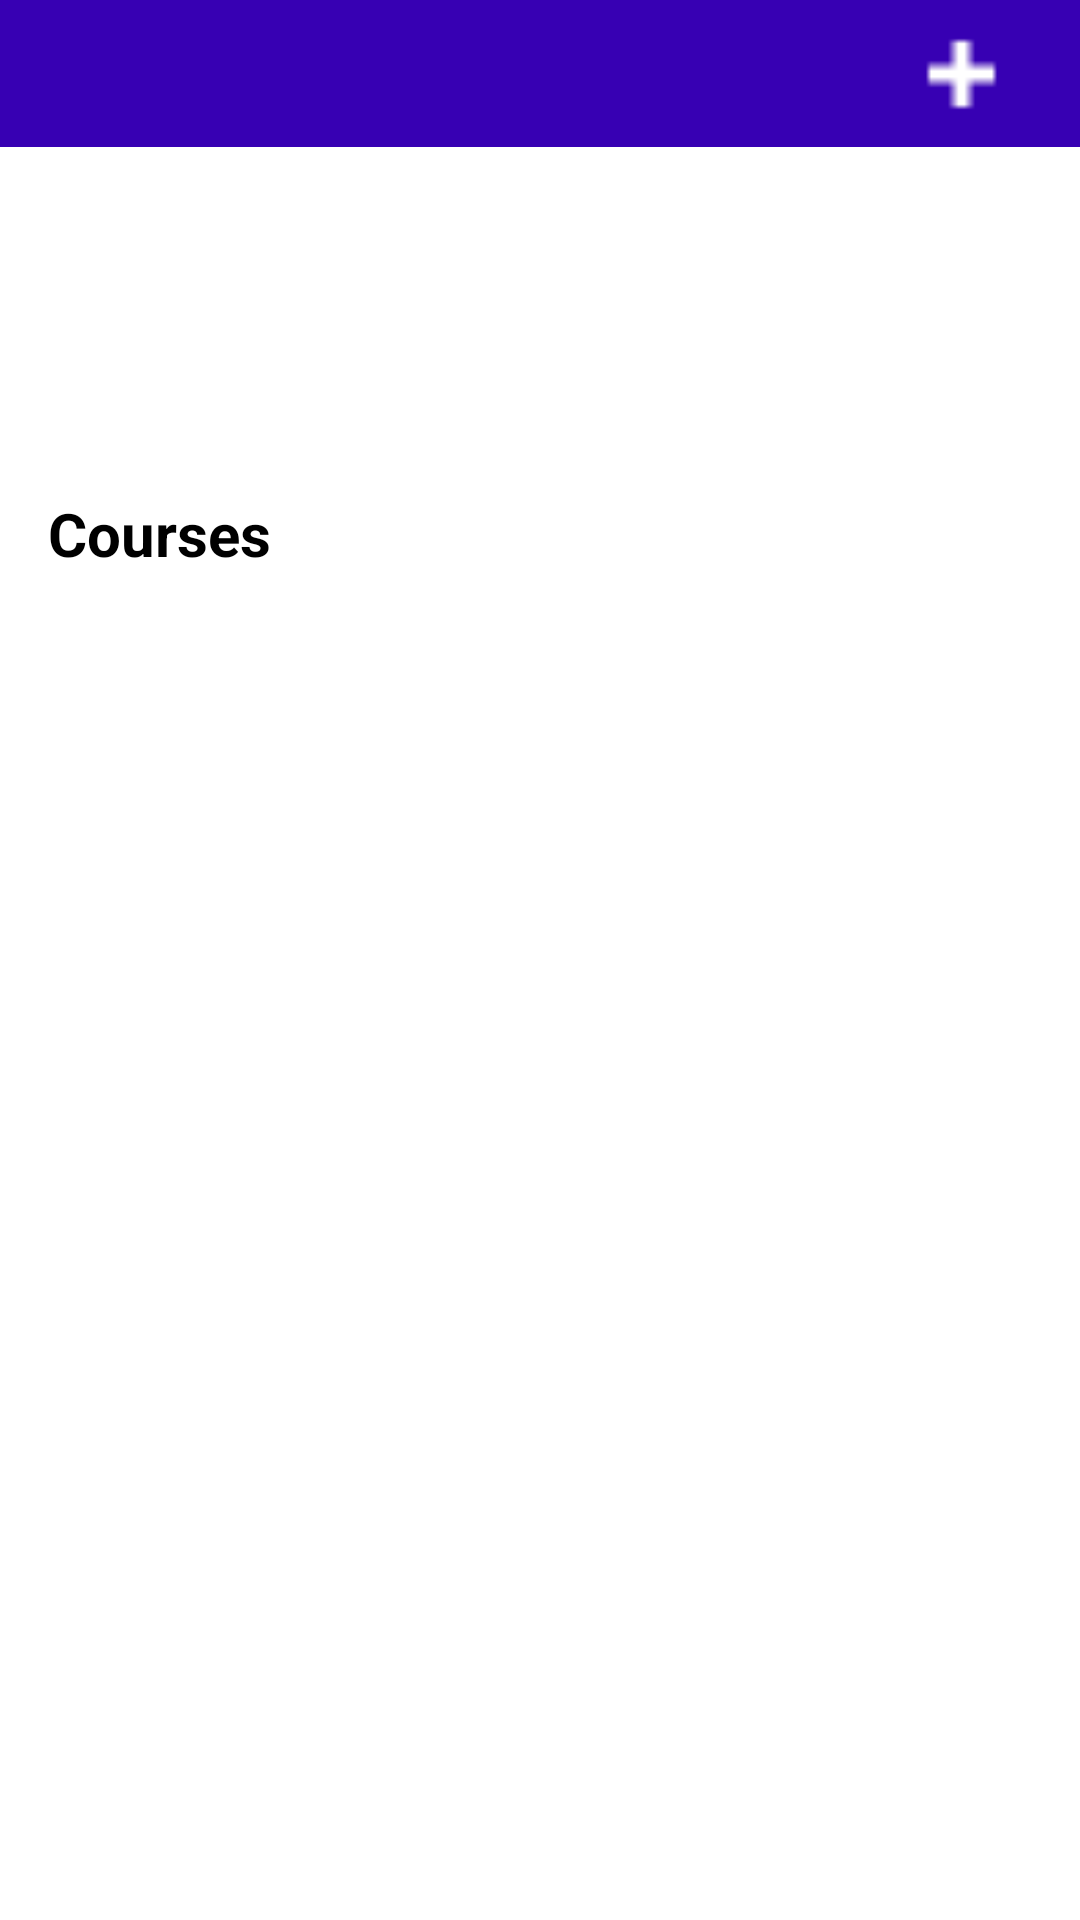

Named icons in this screenshot (1080 × 1920) and their bounding boxes, region(x1, y1, x2, y2):
add: region(926, 39, 997, 109)
